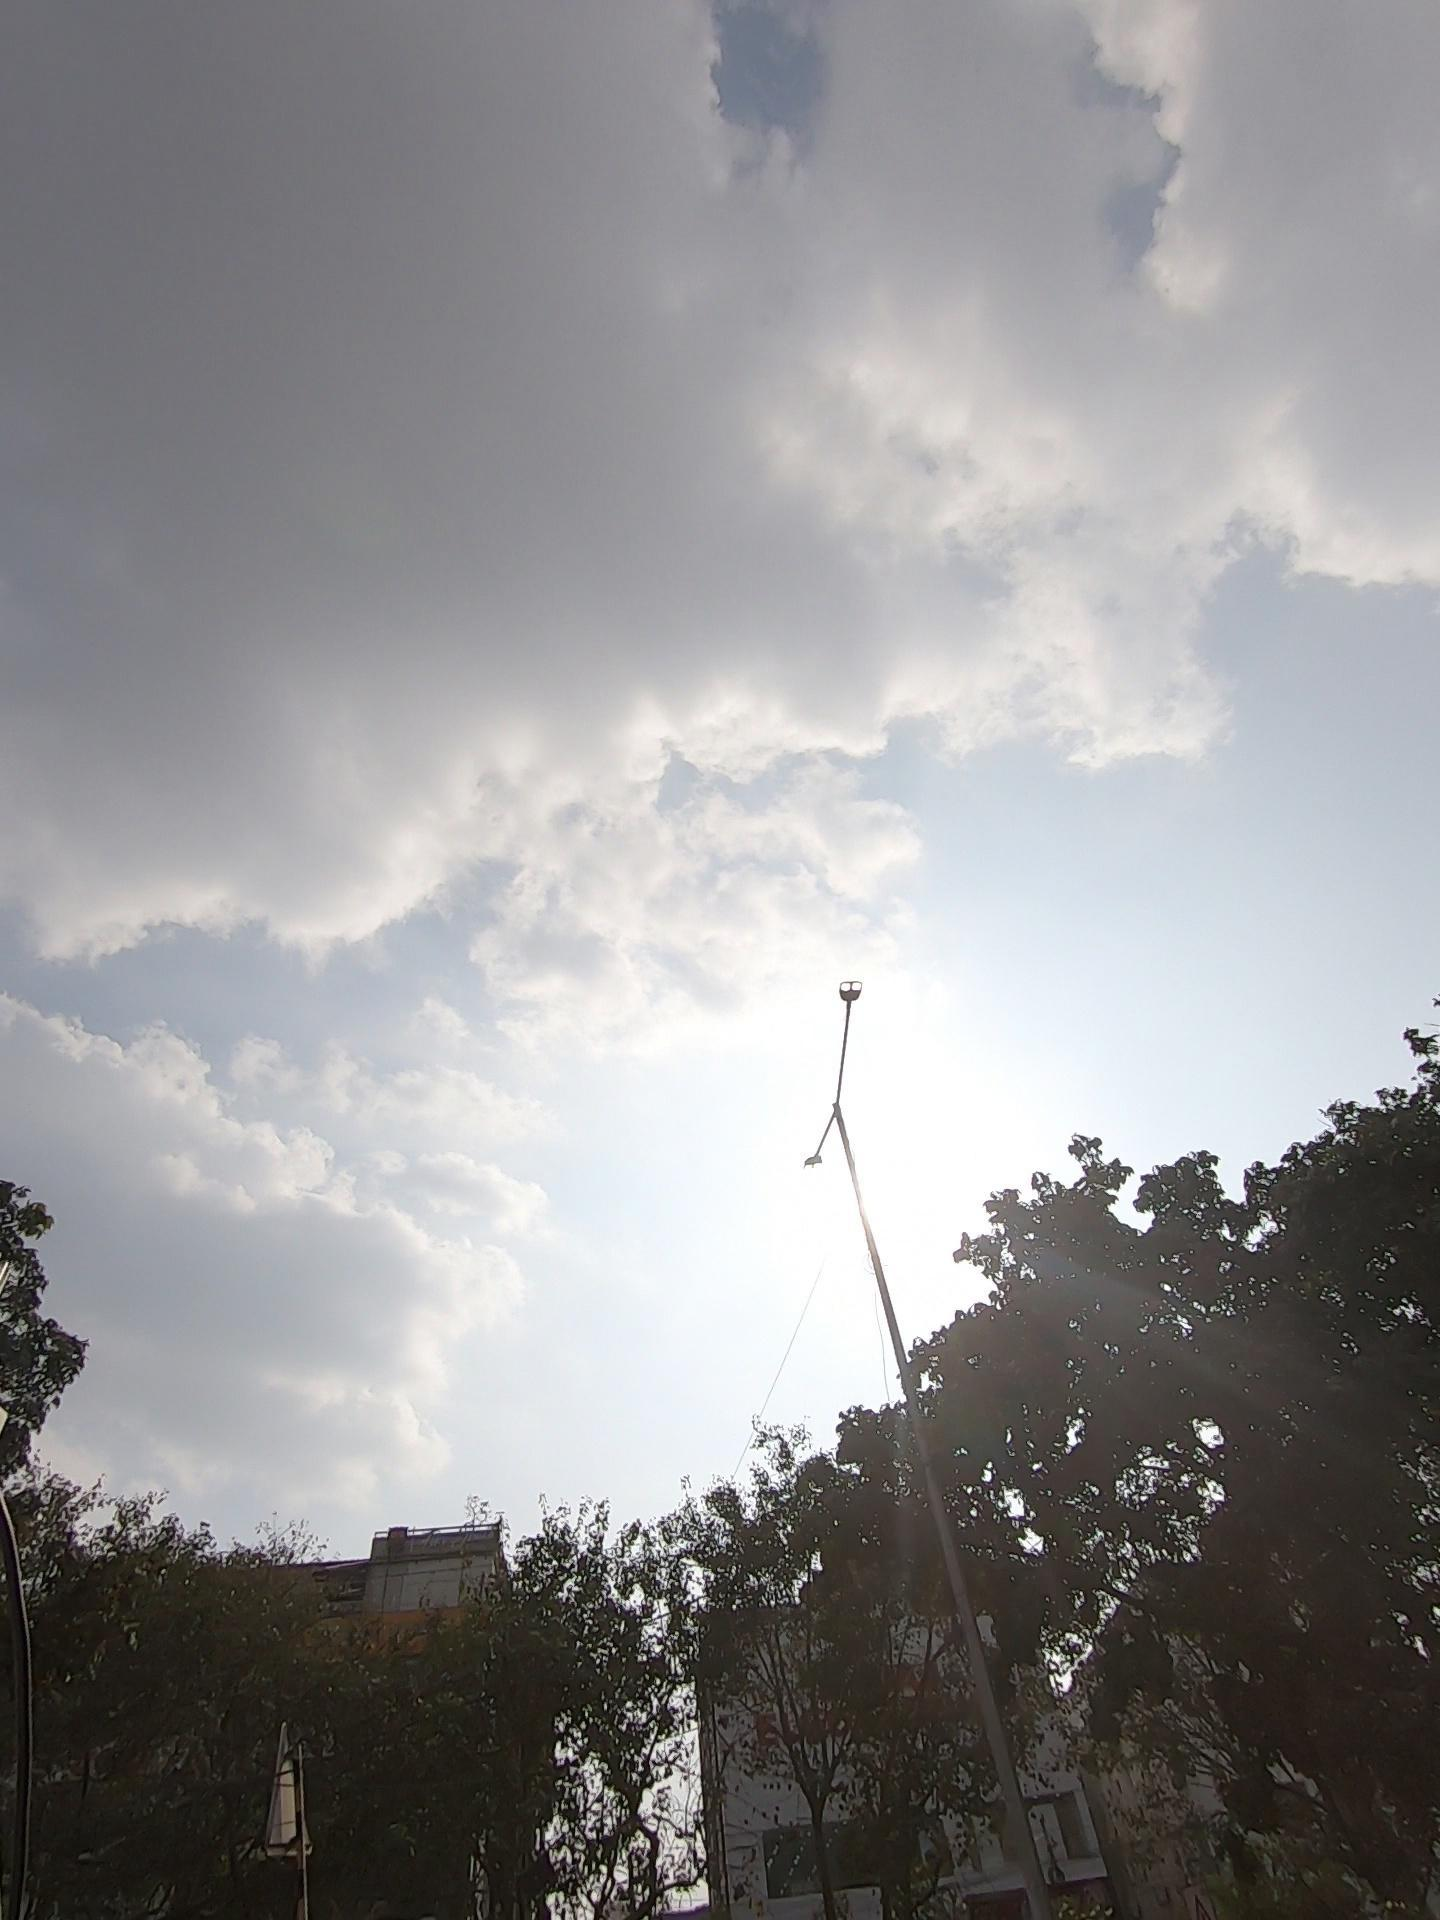off: (770, 881, 927, 1256)
